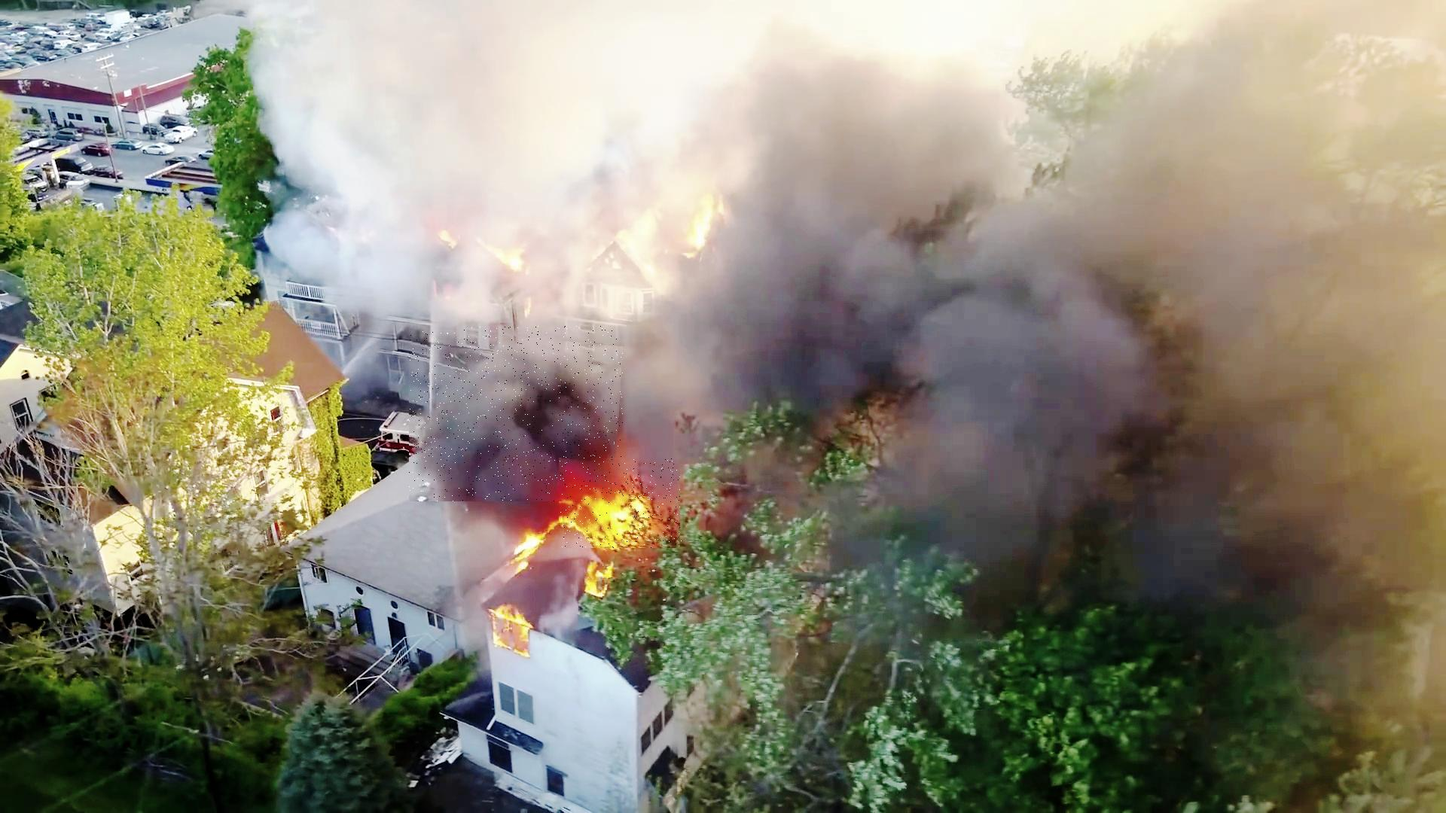fire: (559, 458, 682, 548)
smoke: (409, 326, 623, 502)
